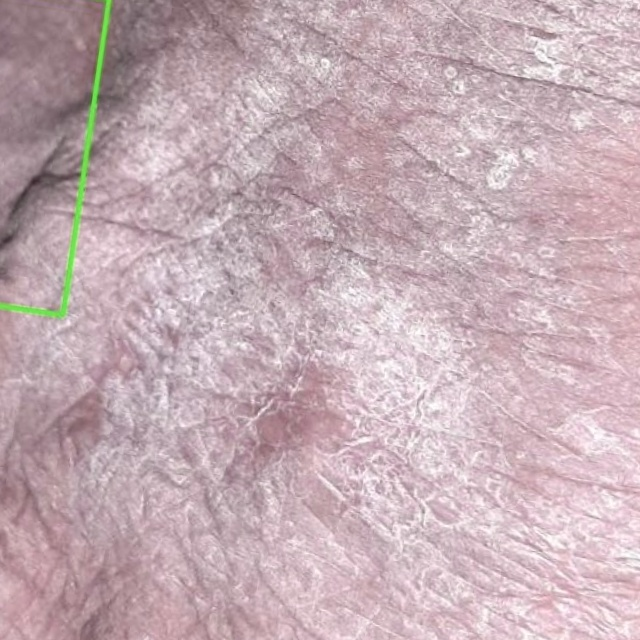Eczema: (0, 0, 108, 314)
